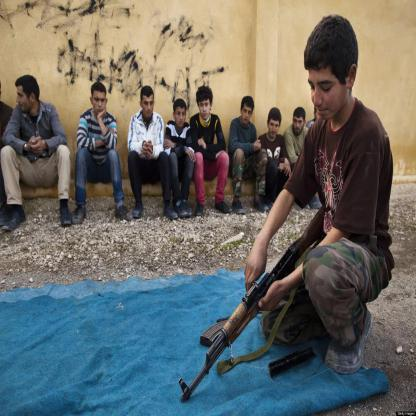rifle: (178, 204, 331, 405)
